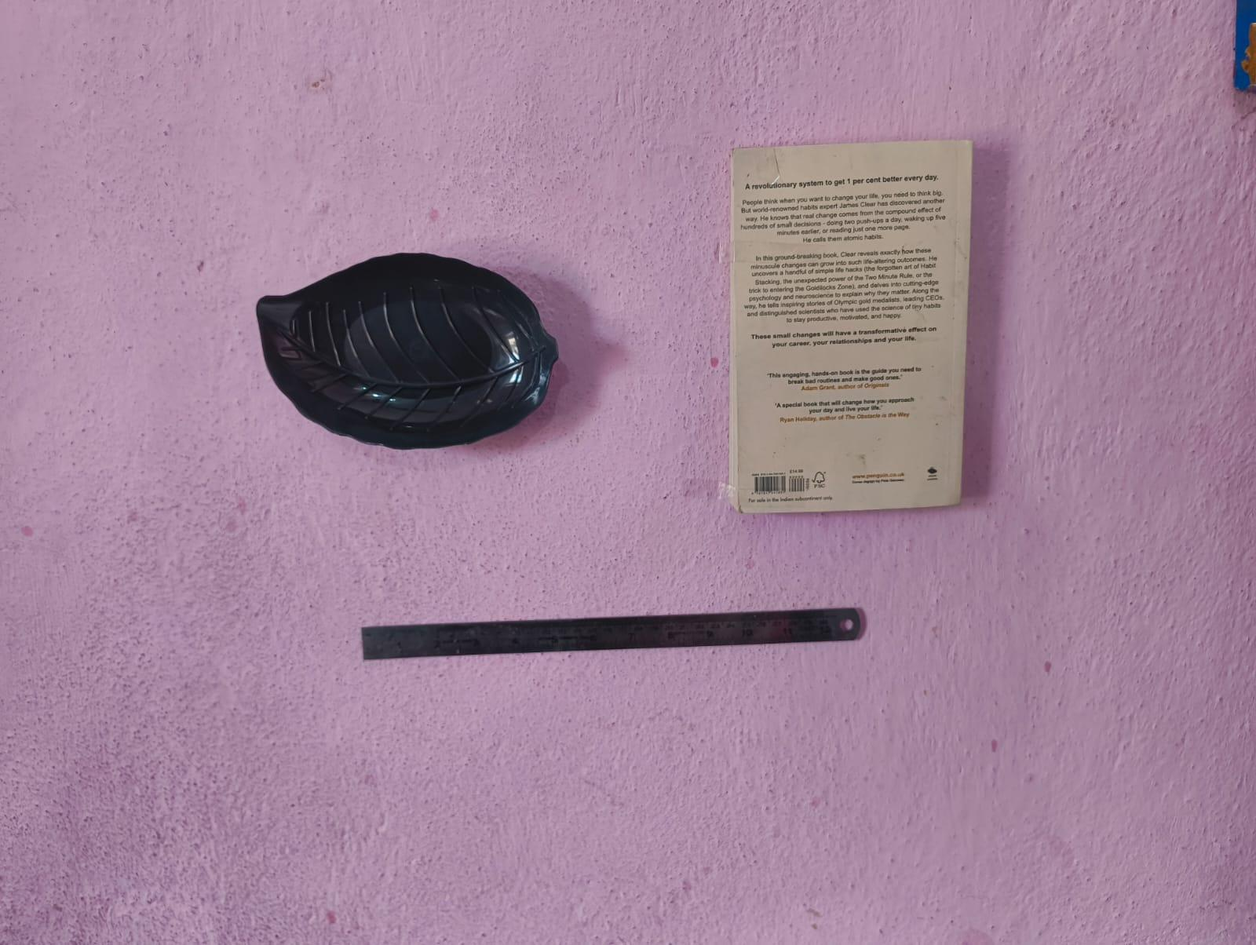Book: (722, 136, 981, 520)
plate: (248, 247, 573, 458)
scale: (350, 602, 879, 670)
